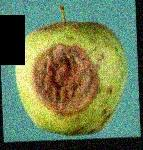rotten apple: (13, 19, 133, 137)
